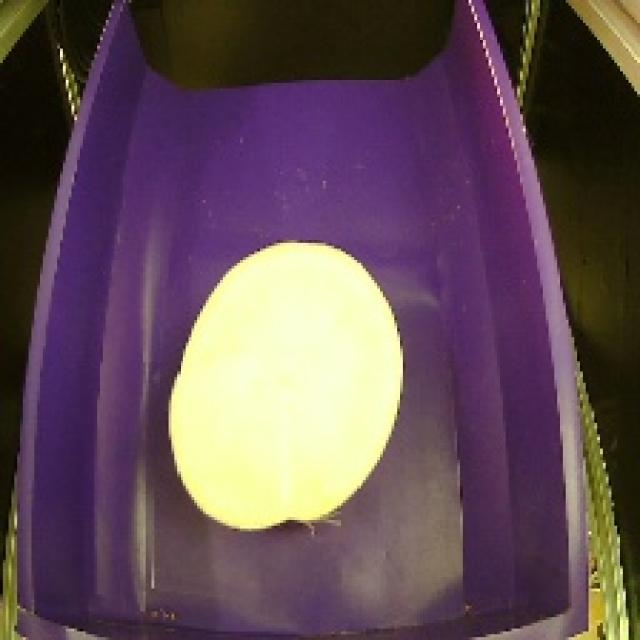white_radish: (155, 218, 409, 542)
